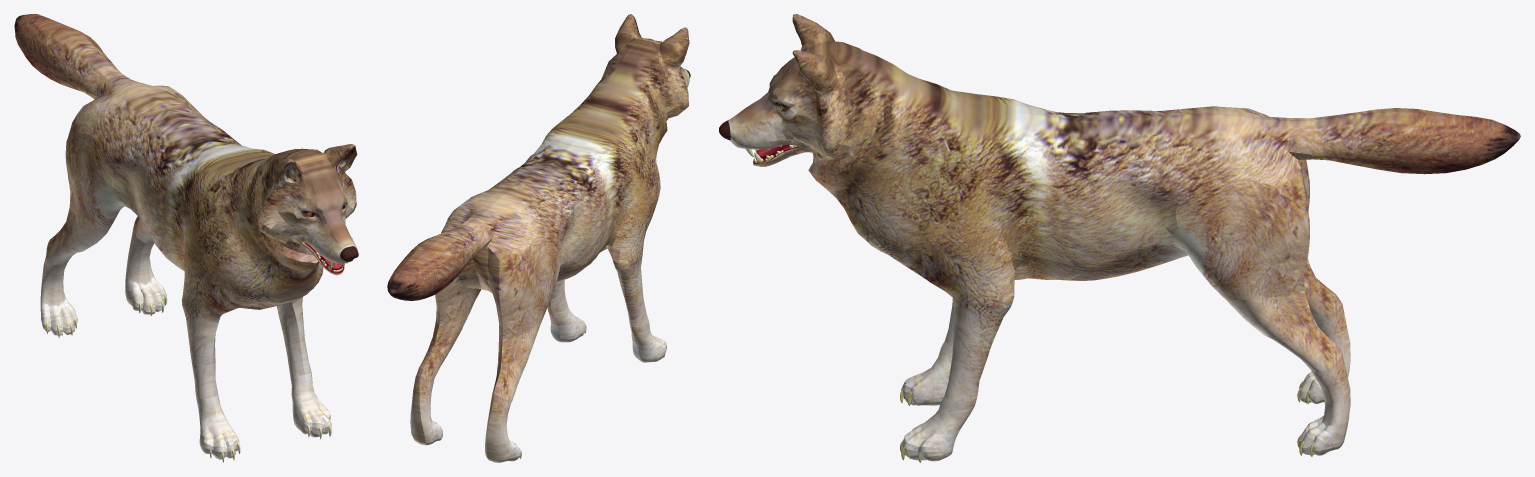
The model's file is wolf.fbx.
3 renders of one model, left to right at view 1: azimuth 30°, elevation 25°; view 2: azimuth 150°, elevation 25°; view 3: azimuth 270°, elevation 25°, orthographic. The views are drawn at different scales.
Visible parts, largest first — view 1: wolf:polySurface1; view 2: wolf:polySurface1; view 3: wolf:polySurface1.
Part boxes in pixels (left/top/right/bottom): wolf:polySurface1: left=14, top=14, right=358, bottom=462; wolf:polySurface1: left=387, top=14, right=690, bottom=462; wolf:polySurface1: left=719, top=14, right=1520, bottom=462.
Bounding box in the file's own units: 5.3 × 13.32 × 24.29.
Materials: 1 (1 with a texture image).
